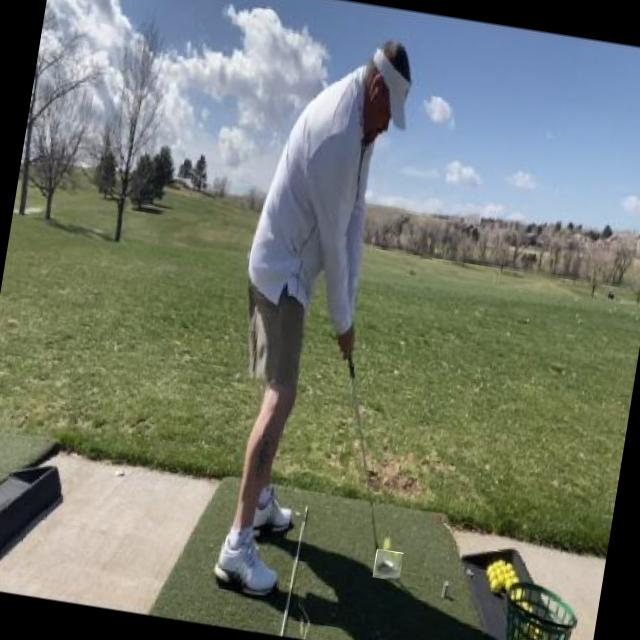club head: (372, 548, 403, 582)
